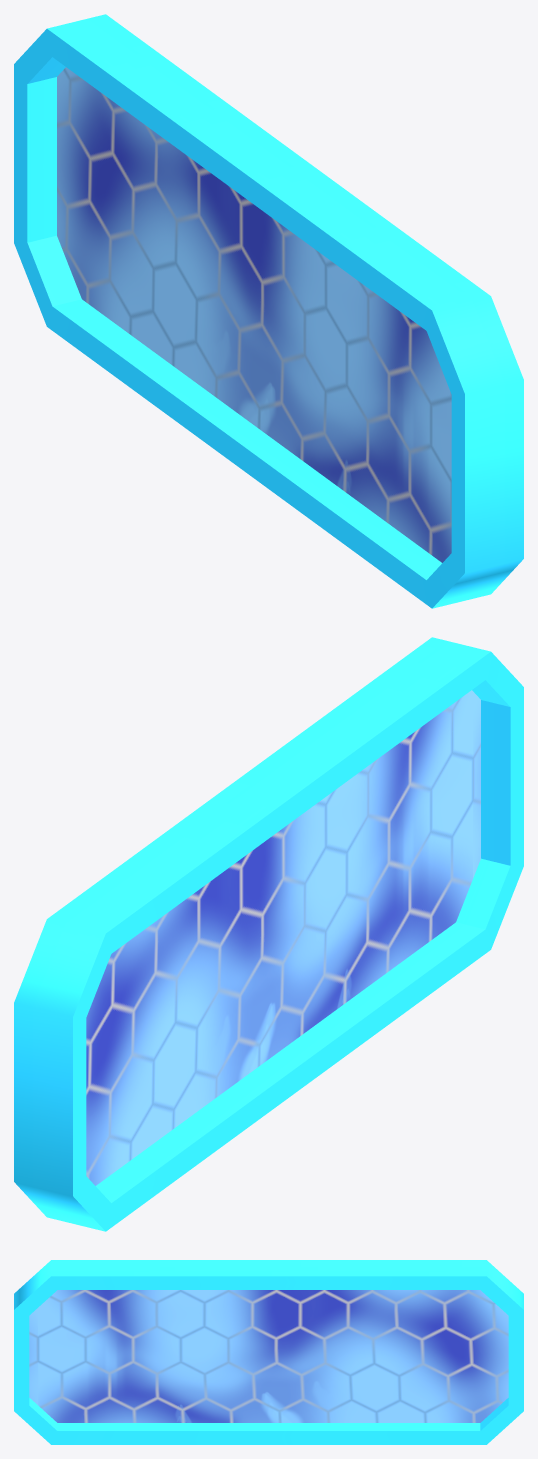
File: s0_Floor02_B_Art_01.gltf
3 renders of one model, top to bottom at view 1: azimuth 30°, elevation 25°; view 2: azimuth 150°, elevation 25°; view 3: azimuth 270°, elevation 25°, orthographic. The views are drawn at different scales.
Parts seen in each view (by area): view 1: node_Floor02_B_Art; view 2: node_Floor02_B_Art; view 3: node_Floor02_B_Art.
Boxes of the visible parts, bbox=[...] form: node_Floor02_B_Art: bbox=[14, 14, 523, 608]; node_Floor02_B_Art: bbox=[14, 637, 523, 1231]; node_Floor02_B_Art: bbox=[14, 1260, 523, 1444].
Bounding box in the file's own units: 0.1593 × 0.7699 × 2.11.
